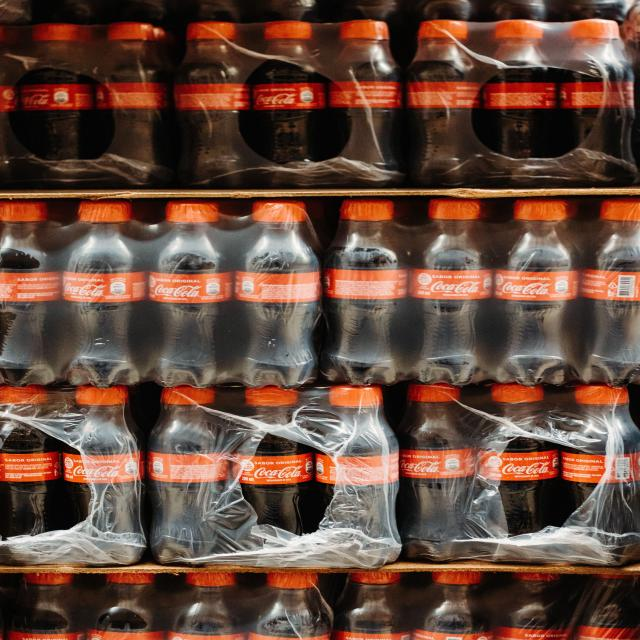Bottle: (235, 201, 321, 388), (321, 200, 407, 385), (493, 199, 578, 385), (149, 201, 233, 387), (409, 199, 492, 385), (63, 201, 146, 387), (147, 386, 229, 562), (397, 384, 479, 559), (10, 24, 104, 160), (242, 22, 332, 164), (95, 23, 172, 186), (316, 386, 398, 539), (174, 23, 250, 188), (556, 385, 639, 533), (406, 21, 480, 186), (63, 386, 144, 534), (474, 20, 557, 158), (0, 201, 60, 386), (329, 20, 402, 171), (581, 199, 639, 385), (559, 19, 634, 161), (235, 434, 322, 535), (0, 418, 68, 539), (497, 436, 562, 535), (488, 573, 574, 639), (249, 572, 332, 639), (332, 572, 411, 639), (413, 572, 492, 639), (6, 573, 85, 639), (87, 573, 166, 639), (168, 572, 245, 639), (575, 574, 639, 639), (0, 25, 24, 188), (30, 0, 114, 25), (404, 0, 474, 28), (548, 0, 629, 23), (238, 0, 320, 22), (473, 0, 548, 21), (181, 0, 248, 23), (620, 0, 639, 78), (335, 0, 400, 22), (114, 0, 169, 25)
